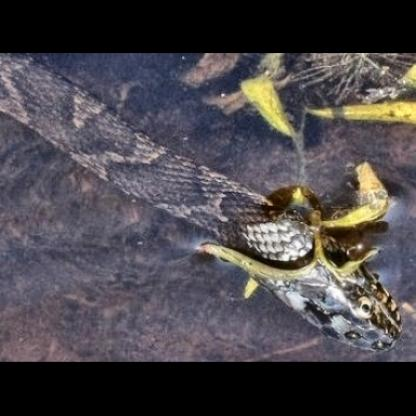Snake: (176, 173, 404, 351)
